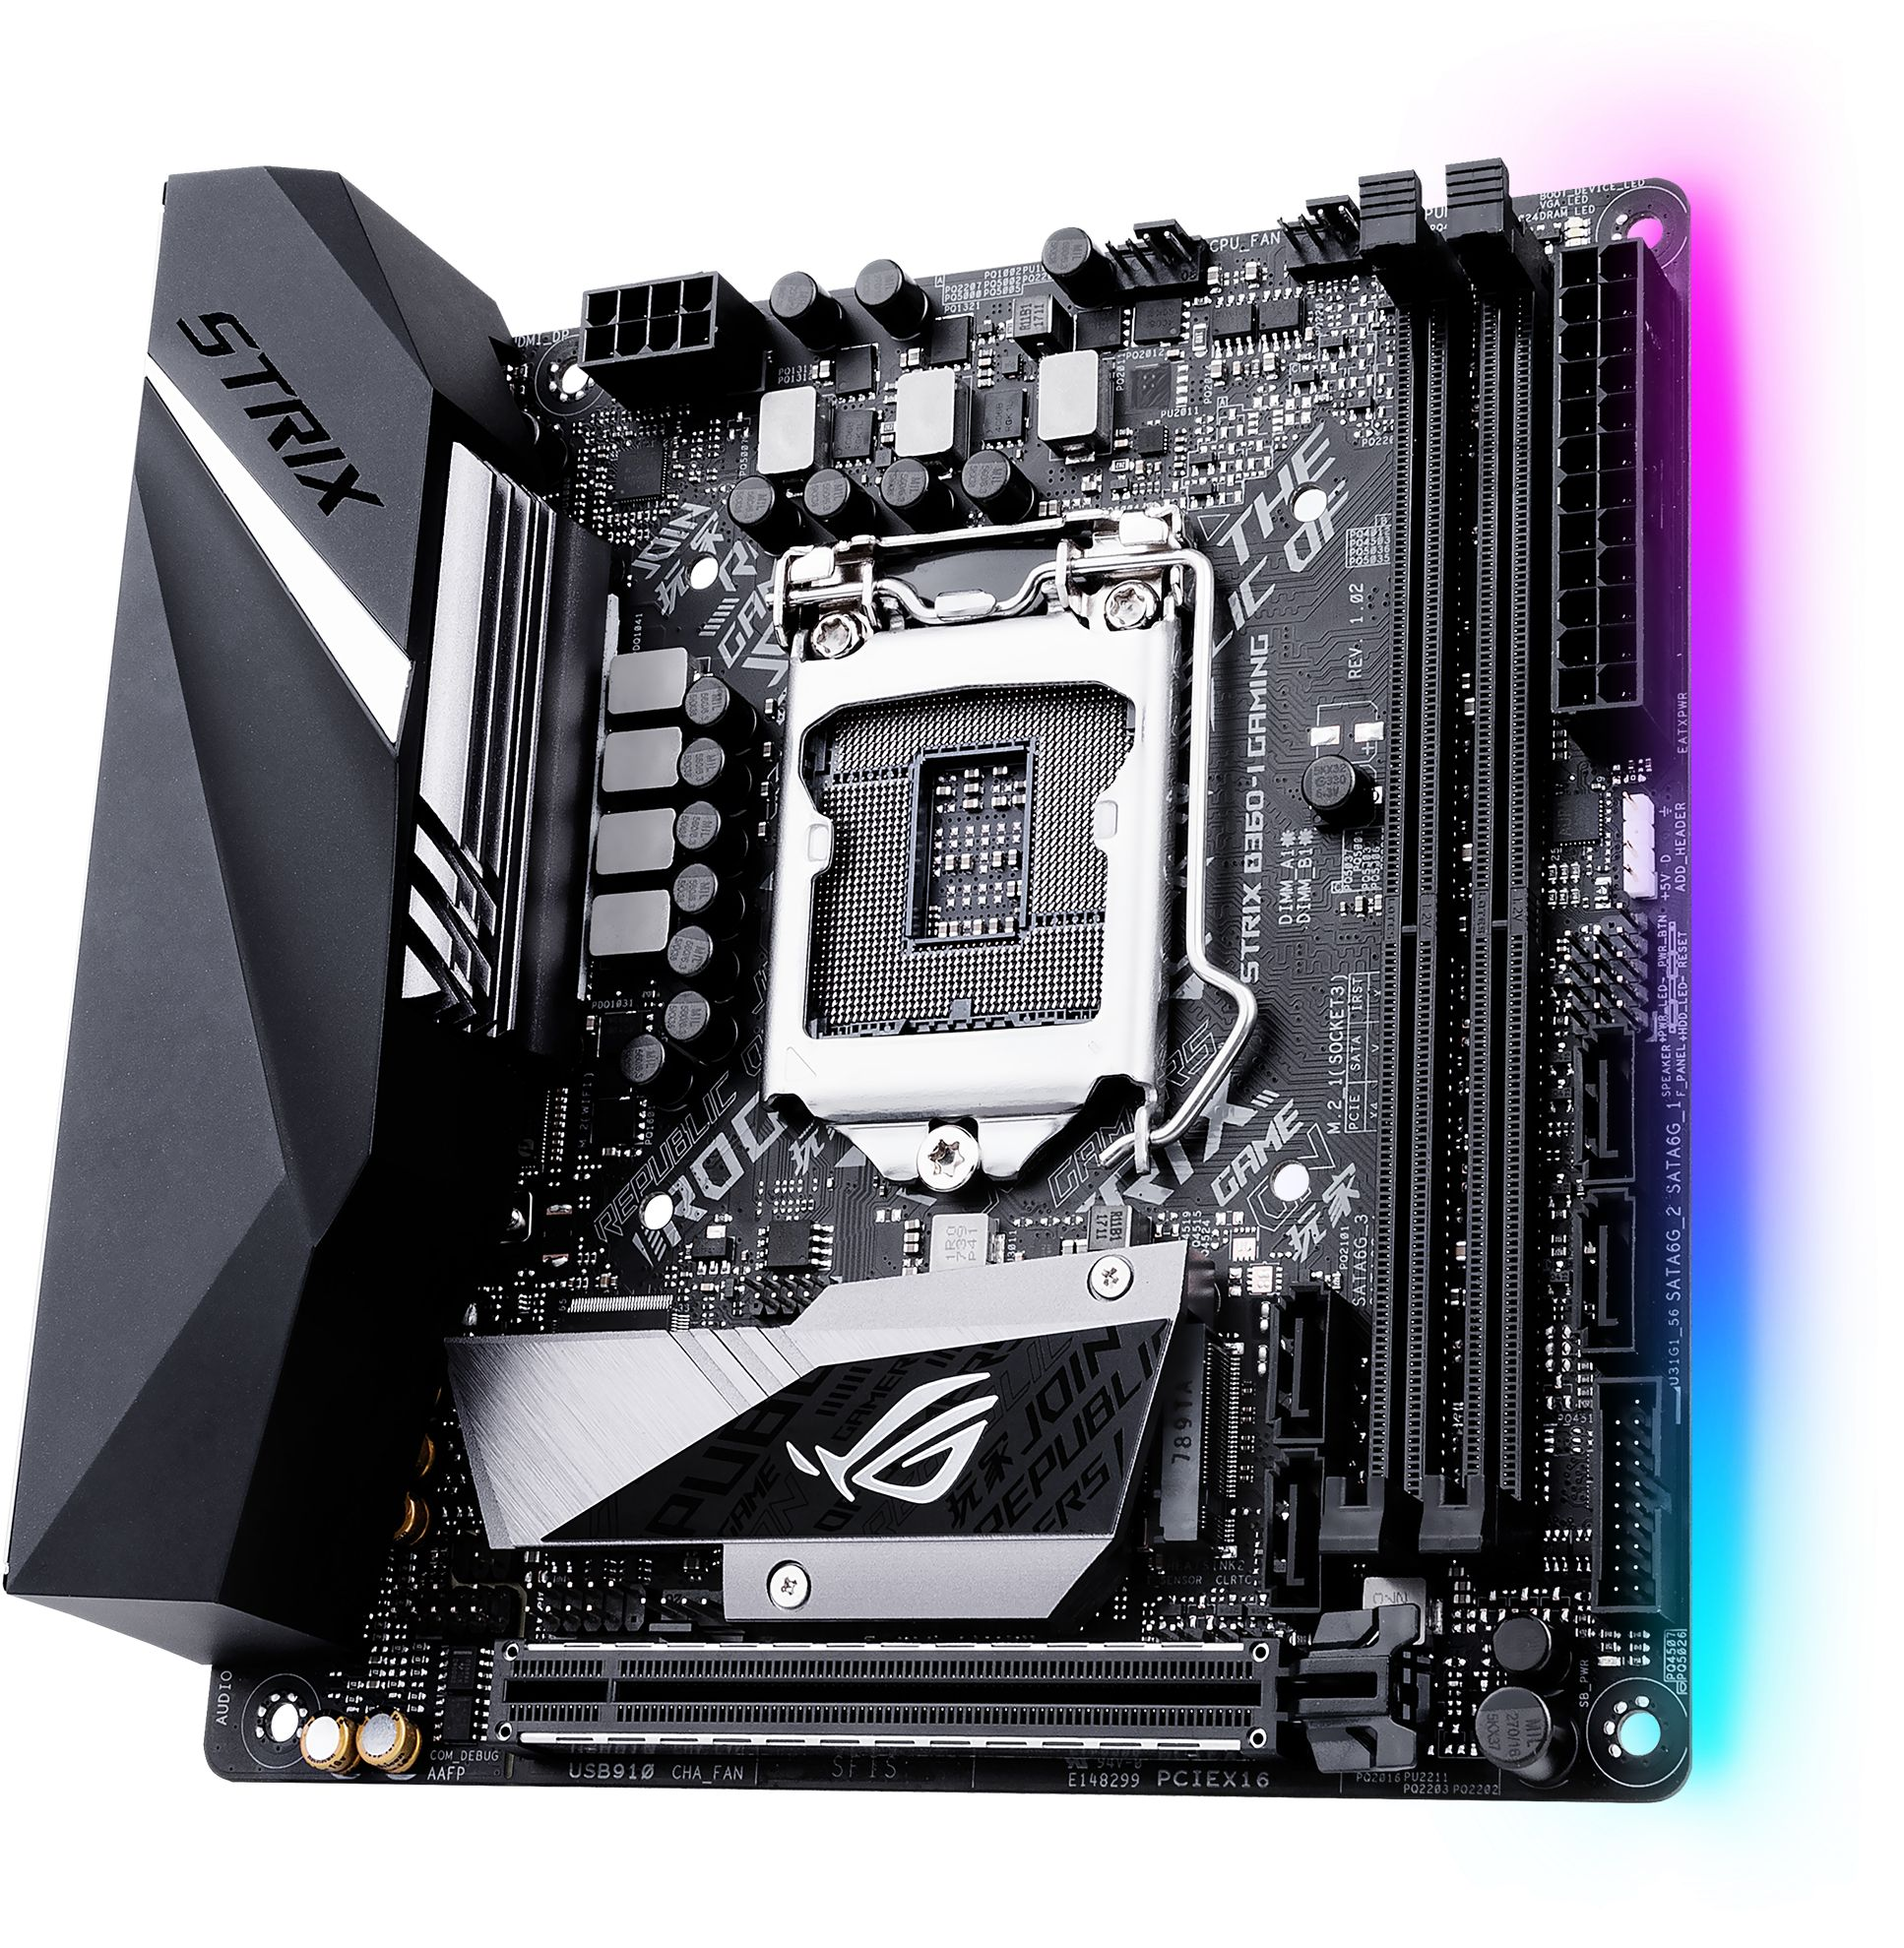Motherboard: (3, 124, 1806, 1863)
